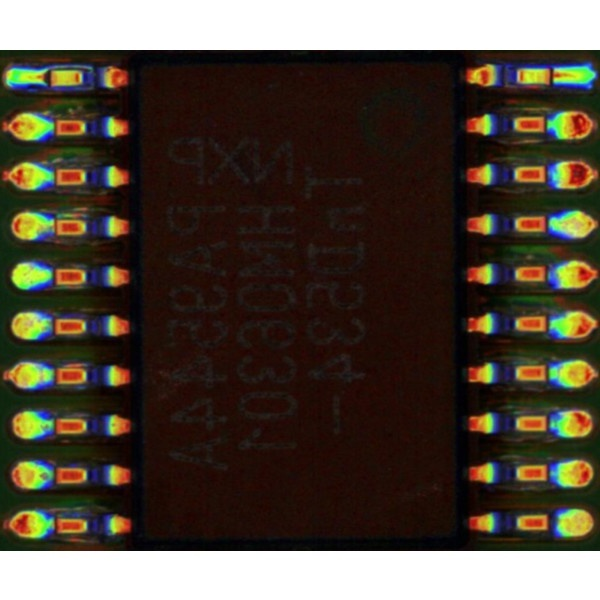Bad_podu: (31, 70, 56, 85), (541, 71, 569, 82)
Bad_qiaojiao: (49, 64, 92, 70)
